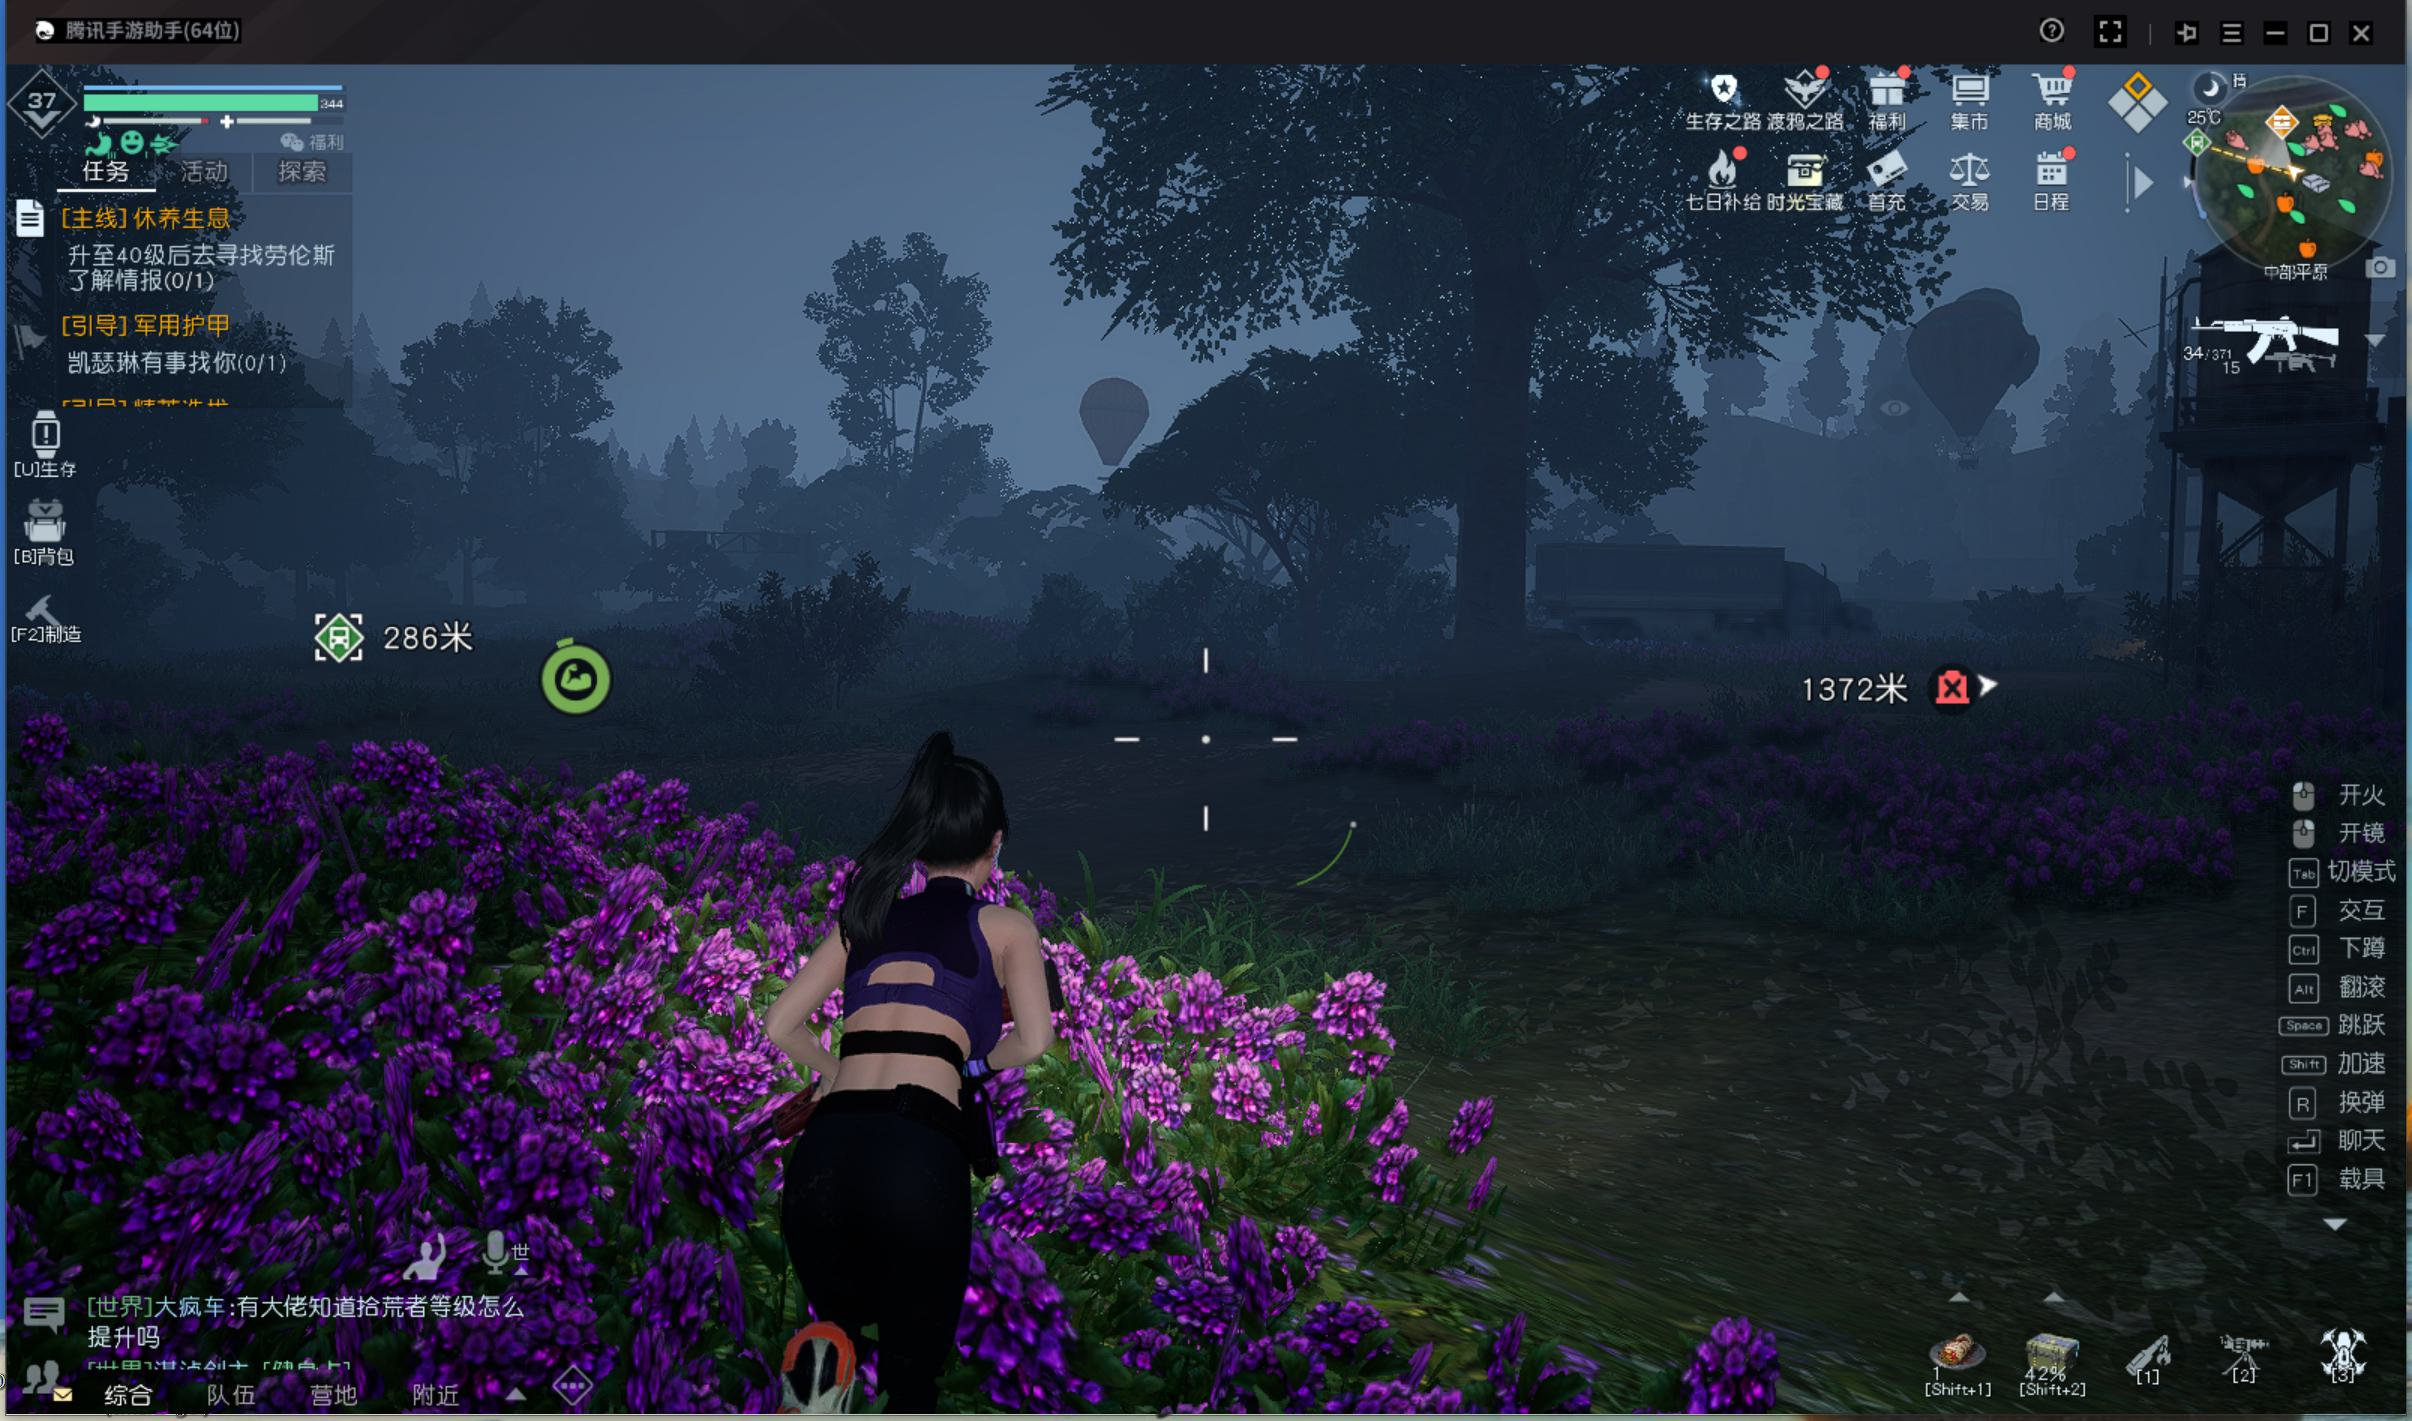tree: (1429, 338, 1549, 678)
